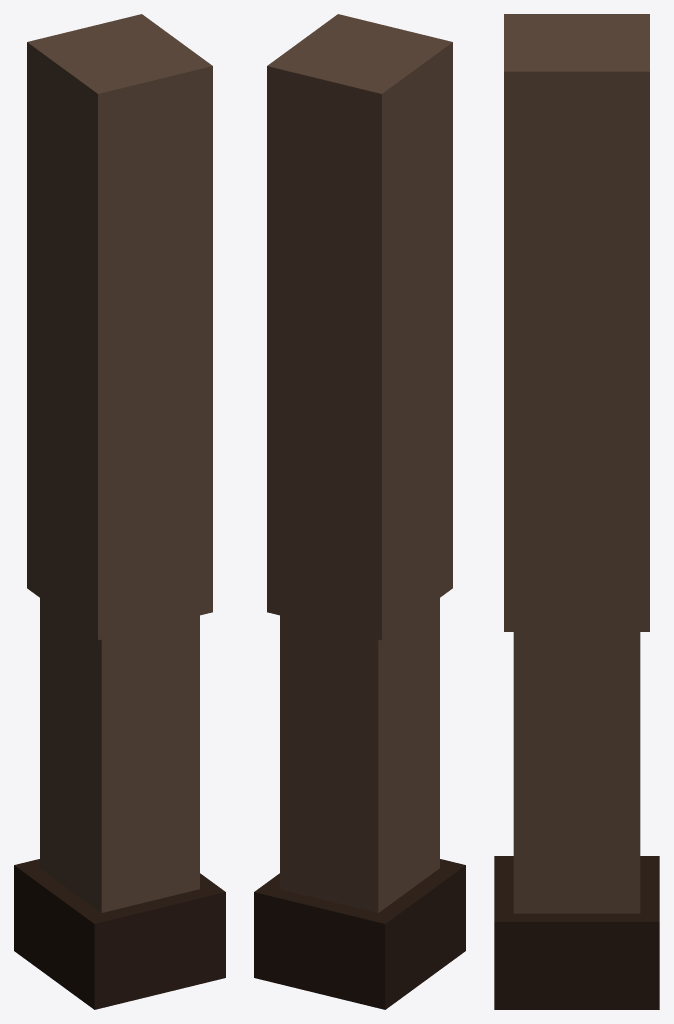
File: carreta_leg_mula.obj
The picture shows the model from 3 angles, left to right: view 1: azimuth 30°, elevation 25°; view 2: azimuth 150°, elevation 25°; view 3: azimuth 270°, elevation 25°; orthographic projection. The views are drawn at different scales.
Visible parts, largest first — view 1: carreta_leg_mula; view 2: carreta_leg_mula; view 3: carreta_leg_mula.
Boxes of the visible parts, x1=… form: carreta_leg_mula: x1=14, y1=14, x2=225, y2=1009; carreta_leg_mula: x1=254, y1=14, x2=465, y2=1009; carreta_leg_mula: x1=494, y1=14, x2=659, y2=1009.
Size of the model in its own units: 0.144 by 0.954 by 0.153.
